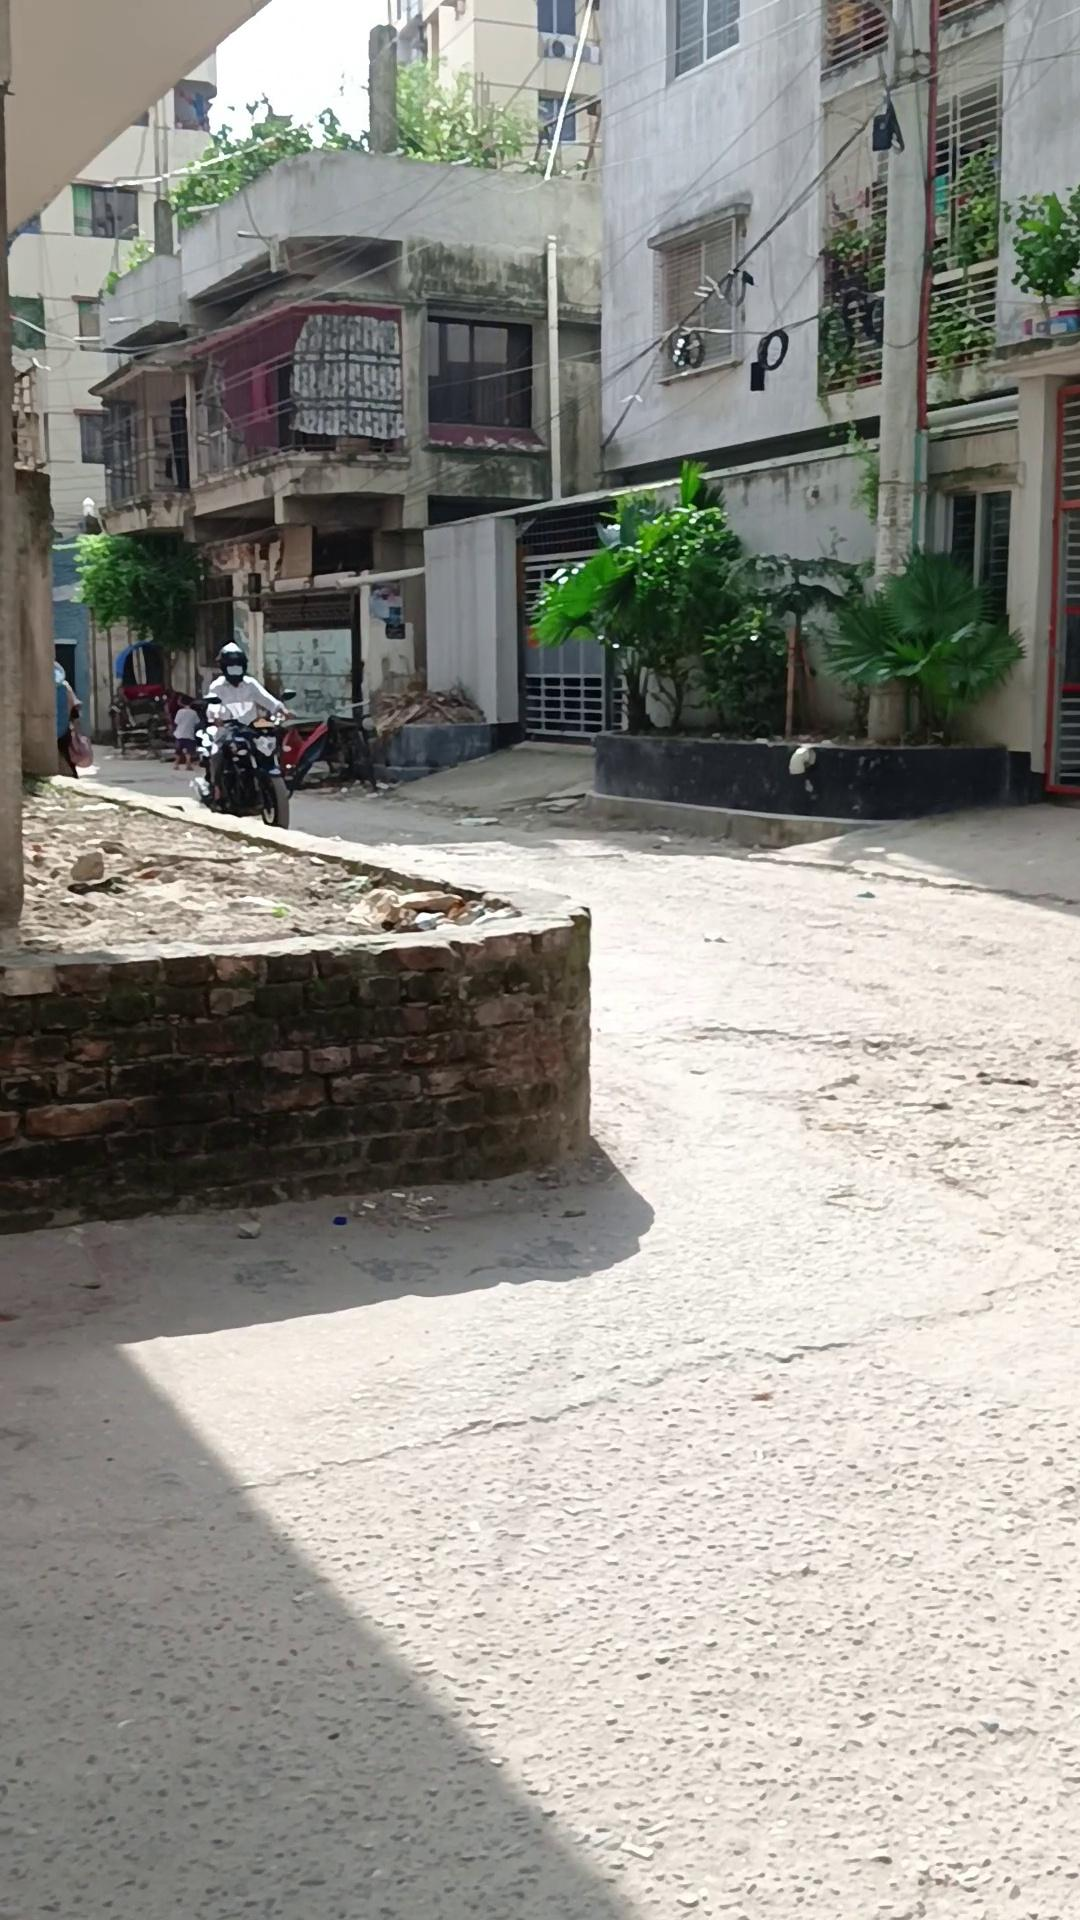Broken-road: (0, 774, 1080, 1920)
Crosswalk: (587, 728, 1035, 824)
Muddy road: (200, 640, 290, 806), (53, 659, 83, 777), (170, 696, 204, 769)
Pothole: (276, 688, 378, 793)
Tree: (3, 775, 593, 1232)
